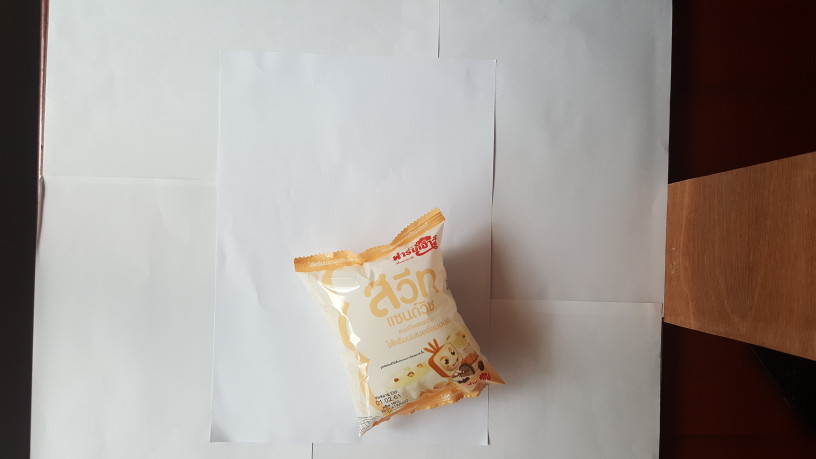farmhouse-sweetsandwich-almond: (286, 209, 508, 442)
